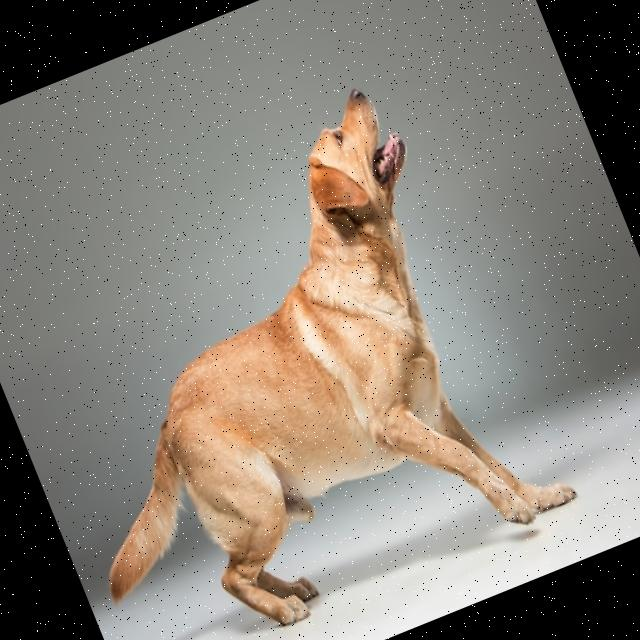Dog: (0, 68, 582, 640)
